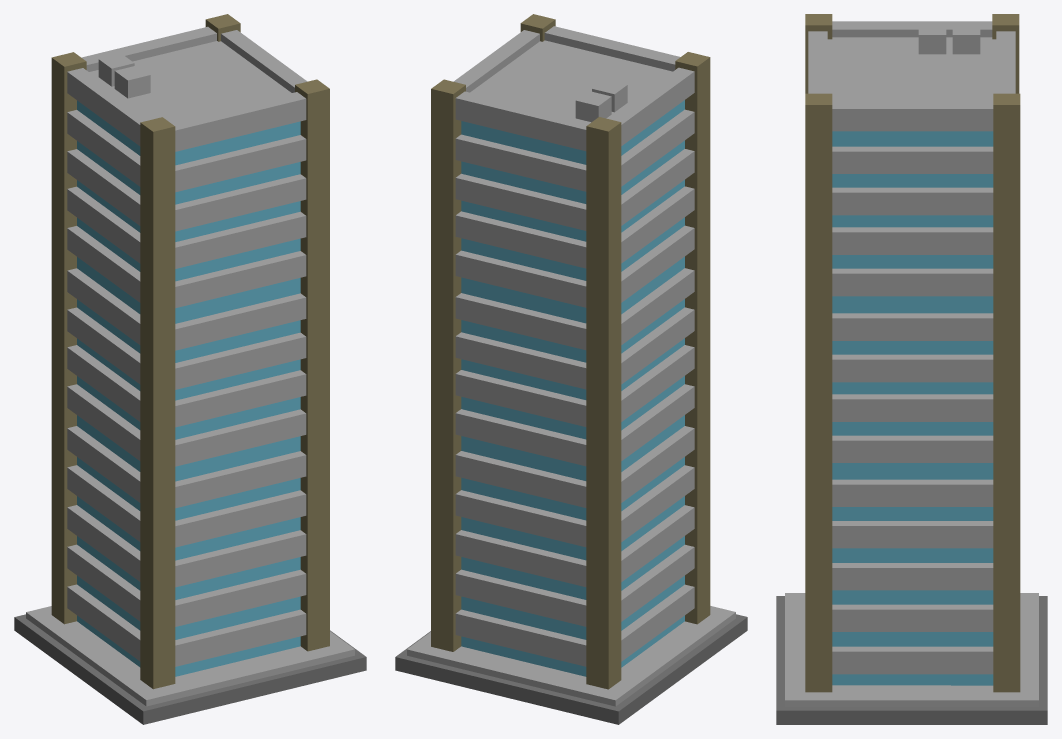
The model's file is Towers1.fbx.
3 renders of one model, left to right at view 1: azimuth 30°, elevation 25°; view 2: azimuth 150°, elevation 25°; view 3: azimuth 270°, elevation 25°, orthographic. The views are drawn at different scales.
Parts seen in each view (by area): view 1: pCube22, pCube51, pCube35, pCube52, pCube39, pCube42, pCube41, pCube34, pCube31, pCube43, pCube45, pCube49 (+10 smaller); view 2: pCube22, pCube39, pCube35, pCube53, pCube51, pCube42, pCube41, pCube47, pCube46, pCube32, pCube31, pCube34 (+10 smaller); view 3: pCube22, pCube35, pCube52, pCube53, pCube42, pCube41, pCube31, pCube46, pCube48, pCube49, pCube43, pCube45 (+11 smaller).
Part boxes in pixels (<box>): pCube22: <box>77,100,300,676</box>; pCube51: <box>140,117,175,689</box>; pCube35: <box>67,26,307,151</box>; pCube52: <box>295,79,329,651</box>; pCube39: <box>51,52,86,624</box>; pCube42: <box>26,606,354,706</box>; pCube41: <box>14,614,366,724</box>; pCube34: <box>67,505,306,587</box>; pCube31: <box>67,584,306,666</box>; pCube43: <box>67,345,306,427</box>; pCube45: <box>67,268,306,350</box>; pCube49: <box>67,149,306,231</box>; pCube22: <box>461,100,684,676</box>; pCube39: <box>586,117,621,689</box>; pCube35: <box>453,26,694,151</box>; pCube53: <box>431,79,465,651</box>; pCube51: <box>675,52,710,624</box>; pCube42: <box>407,606,735,706</box>; pCube41: <box>395,614,747,724</box>; pCube47: <box>455,186,694,268</box>; pCube46: <box>455,307,694,389</box>; pCube32: <box>455,544,694,626</box>; pCube31: <box>455,584,694,666</box>; pCube34: <box>455,505,694,586</box>; pCube22: <box>832,131,993,685</box>; pCube35: <box>808,21,1015,131</box>; pCube52: <box>805,93,832,692</box>; pCube53: <box>993,93,1020,692</box>; pCube42: <box>785,593,1038,706</box>; pCube41: <box>776,596,1047,724</box>; pCube31: <box>832,646,993,674</box>; pCube46: <box>832,354,993,382</box>; pCube48: <box>832,268,993,296</box>; pCube49: <box>832,187,993,215</box>; pCube43: <box>832,394,993,421</box>; pCube45: <box>832,313,993,340</box>.
Size of the model in its own units: 9.81 by 24.44 by 9.81.
